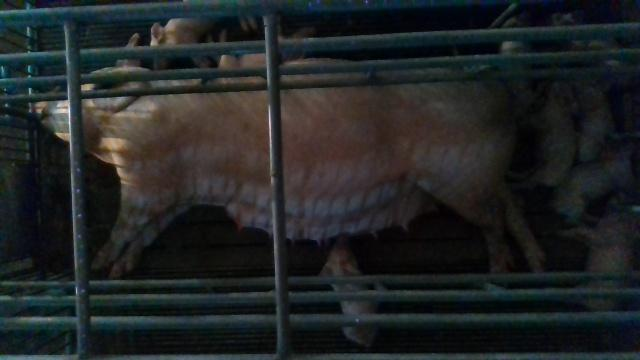piglet: (558, 201, 640, 310), (150, 0, 264, 69), (511, 80, 578, 191), (551, 142, 635, 225), (322, 235, 376, 346), (573, 84, 621, 162)
sow-sleep-lactate: (29, 30, 546, 275)
